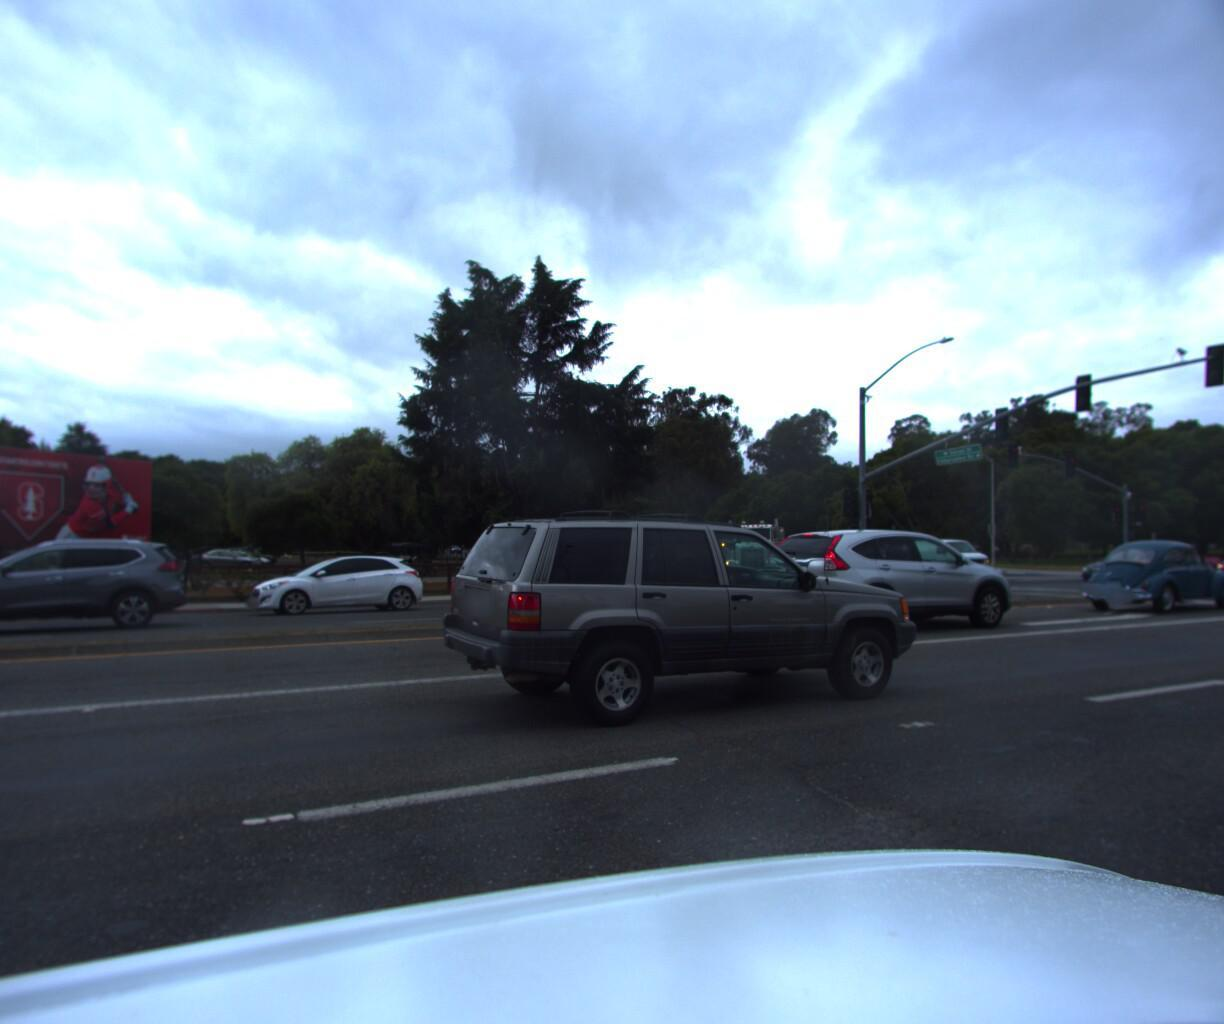car: (423, 500, 926, 752), (741, 527, 1032, 643), (0, 544, 190, 648), (1061, 534, 1224, 615), (237, 555, 430, 622), (892, 536, 989, 579), (1205, 546, 1224, 576)
truck: (713, 511, 782, 591), (693, 524, 764, 581)
